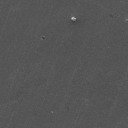corrosion: (70, 16, 77, 22), (40, 35, 47, 41), (109, 13, 114, 20)
